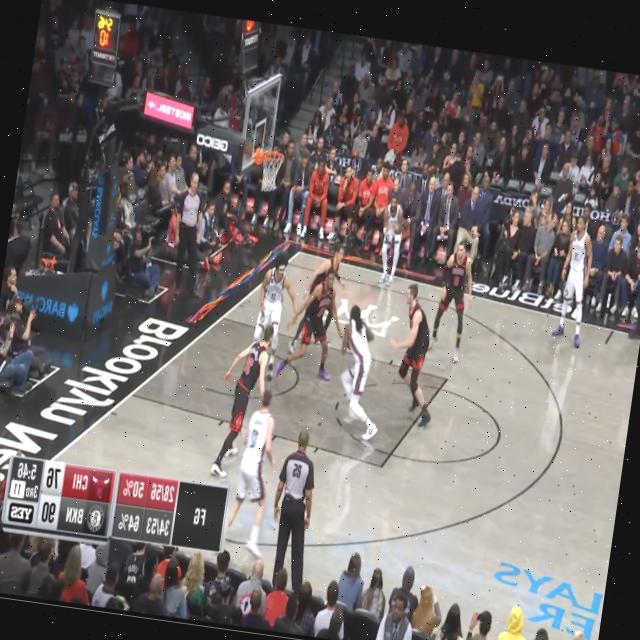no foul: (331, 278, 448, 460), (280, 229, 358, 386)
